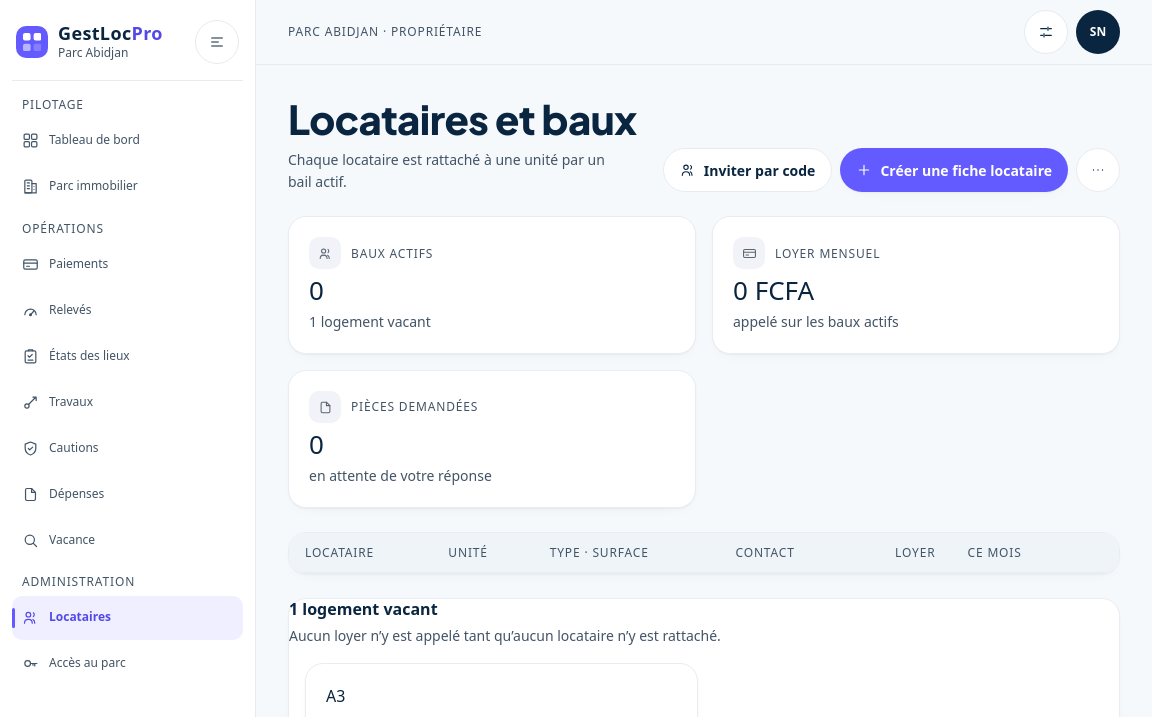
Test: l’indicatif de la fiche locataire › suit le pays du PARC, et non une valeur écrite en dur
Click the button "Créer une fiche locataire": coordinates (954, 170) [840, 148, 1068, 192]
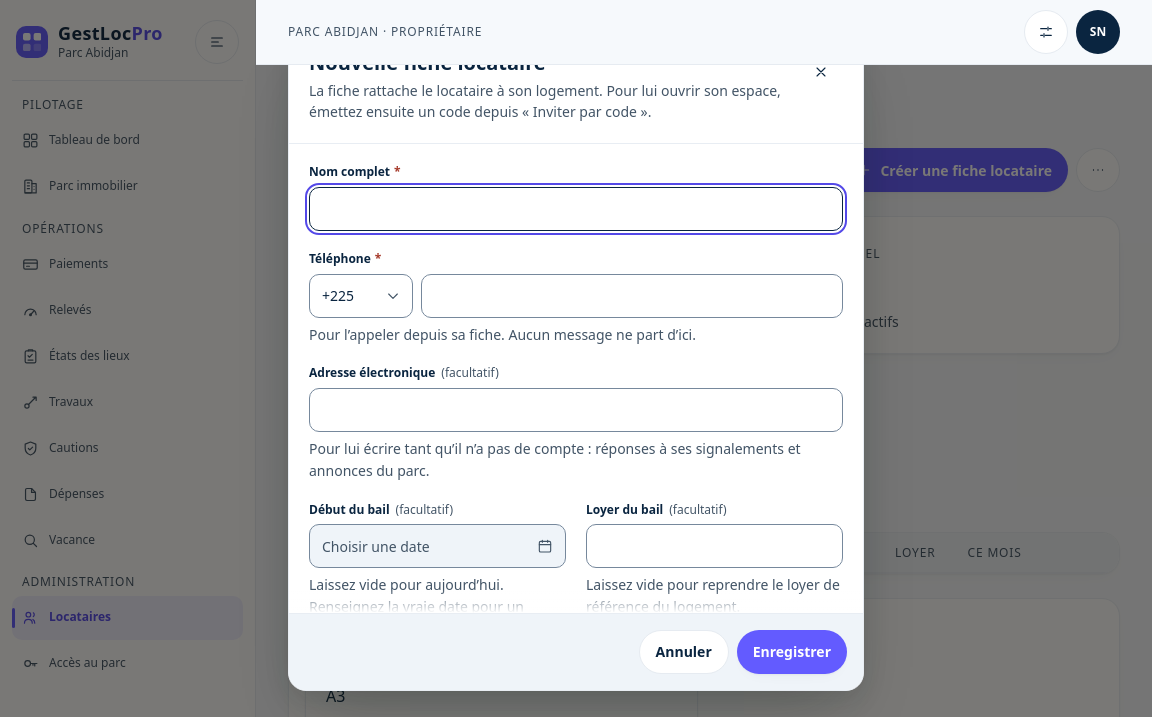
Now the dropdown named "indicatif" holds "+225", box [309, 274, 413, 318]
